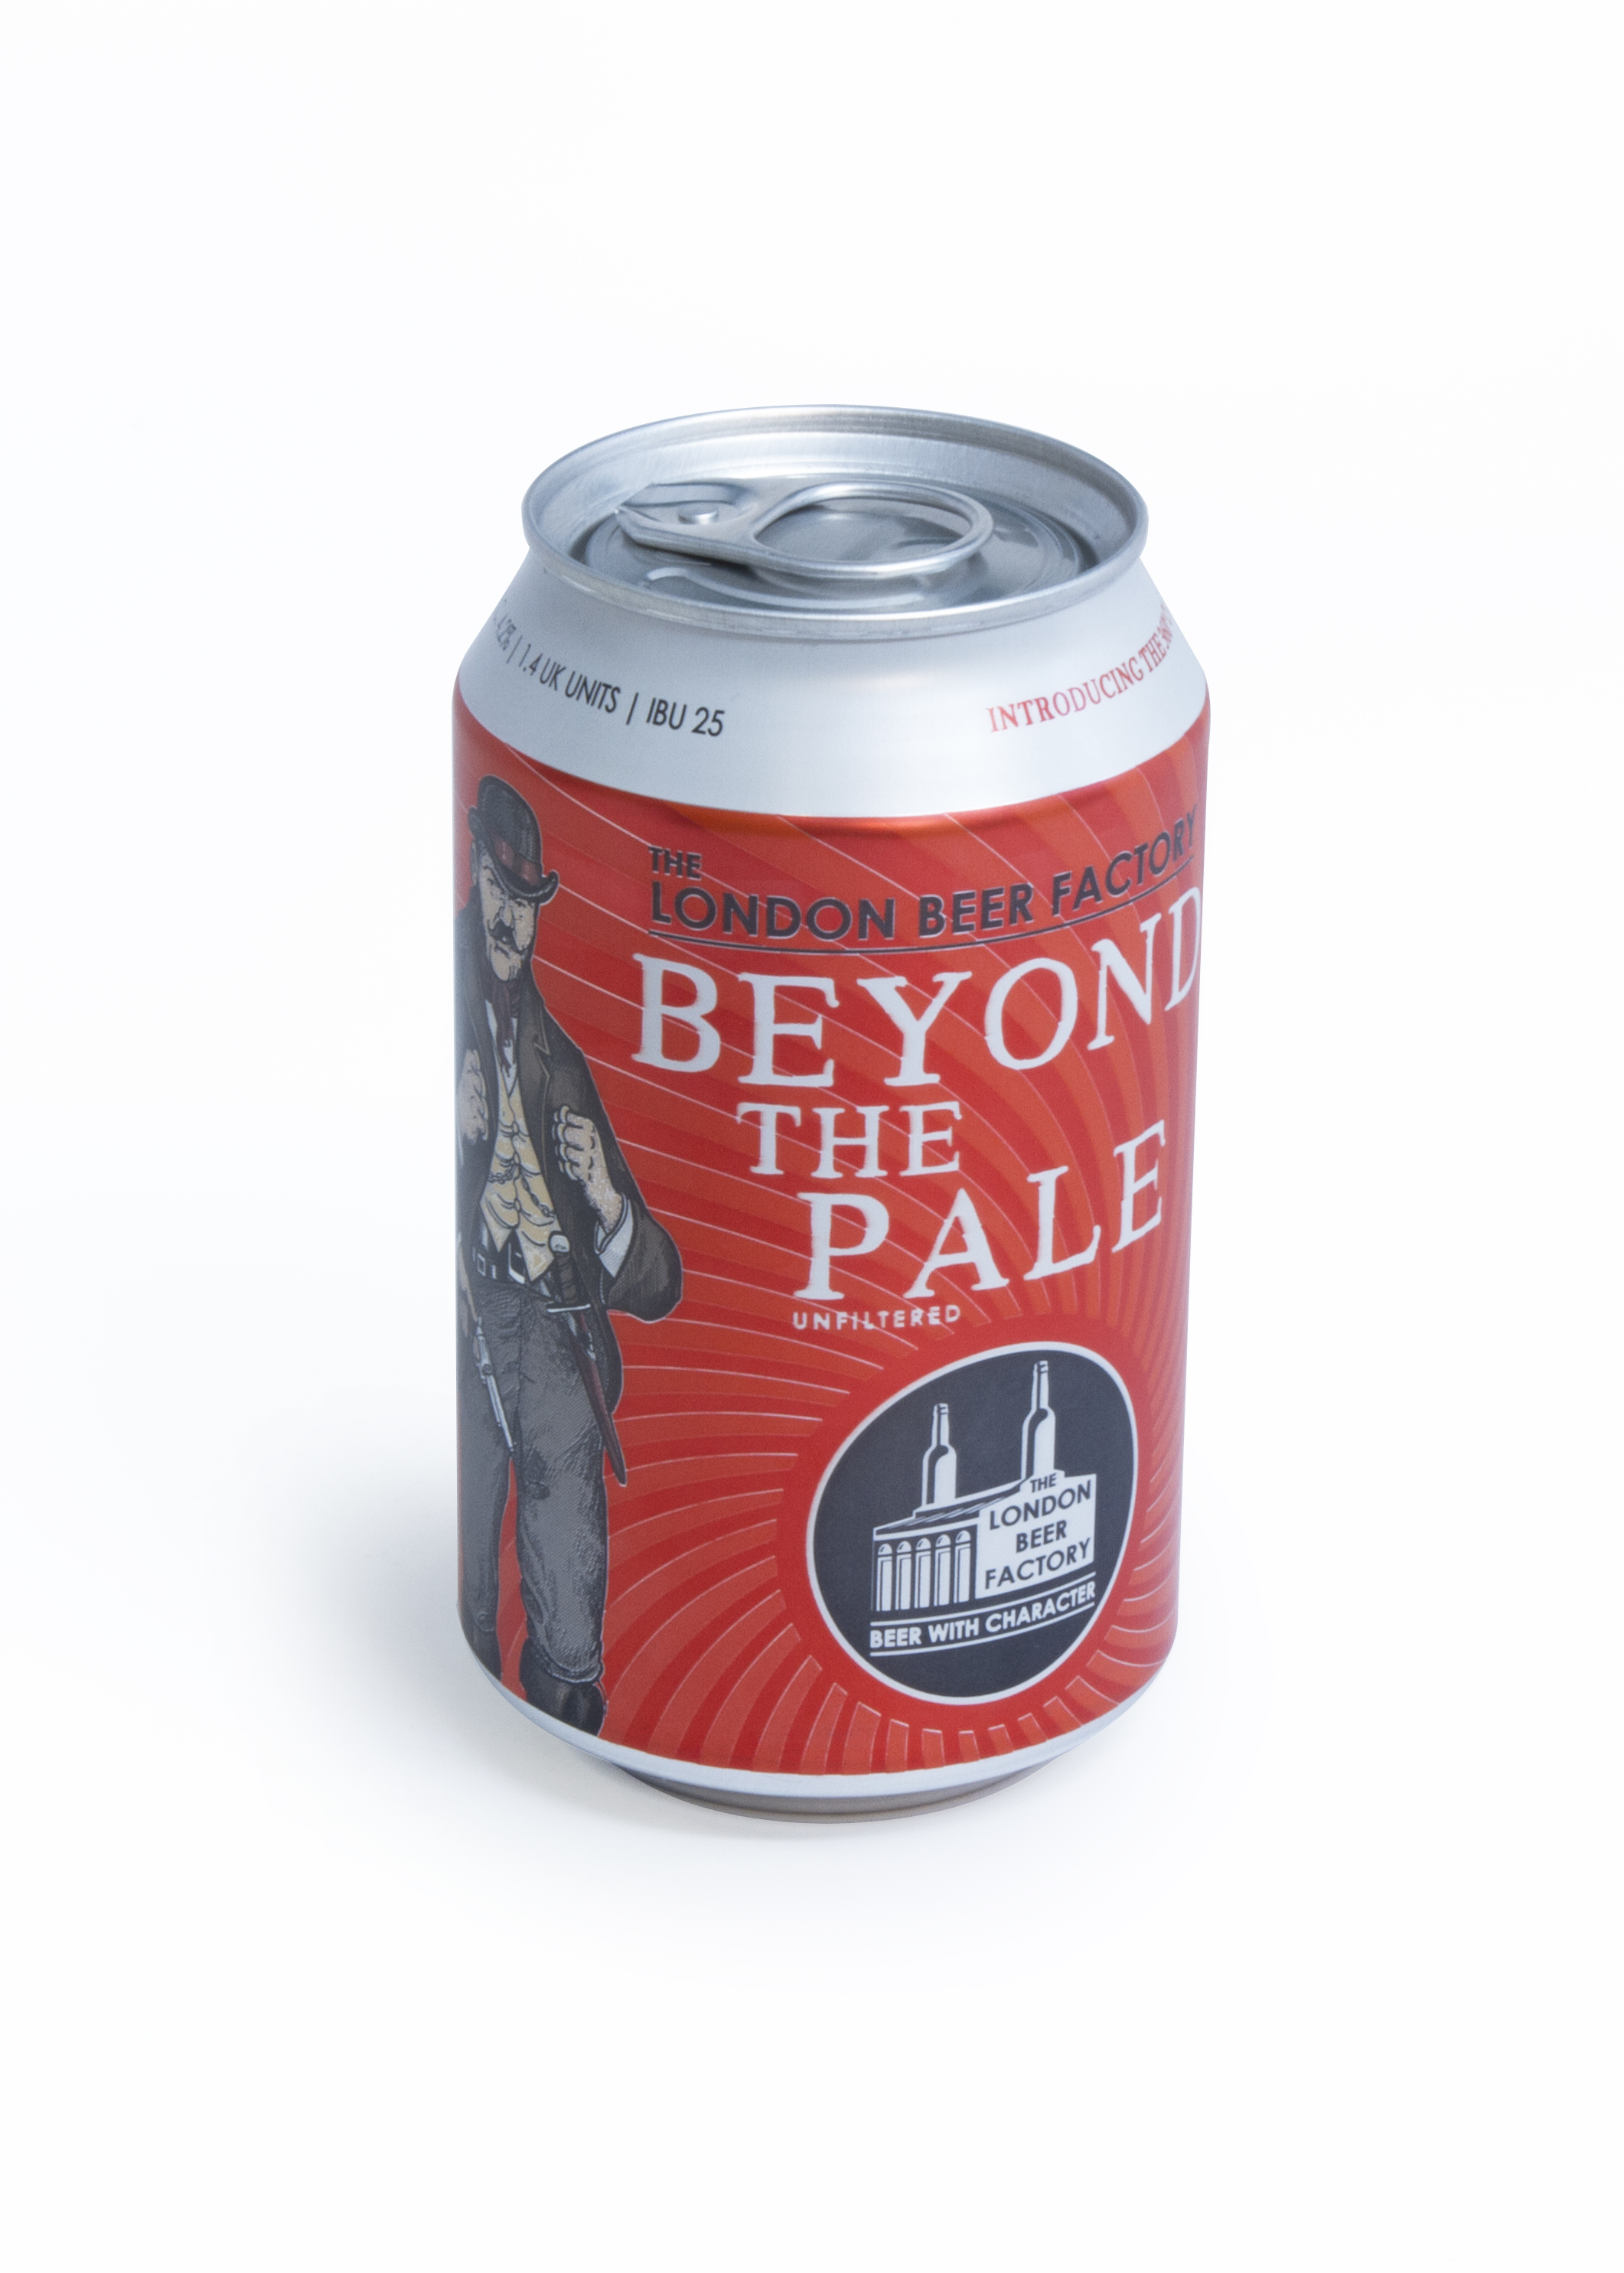beer can: (448, 413, 1192, 1804)
